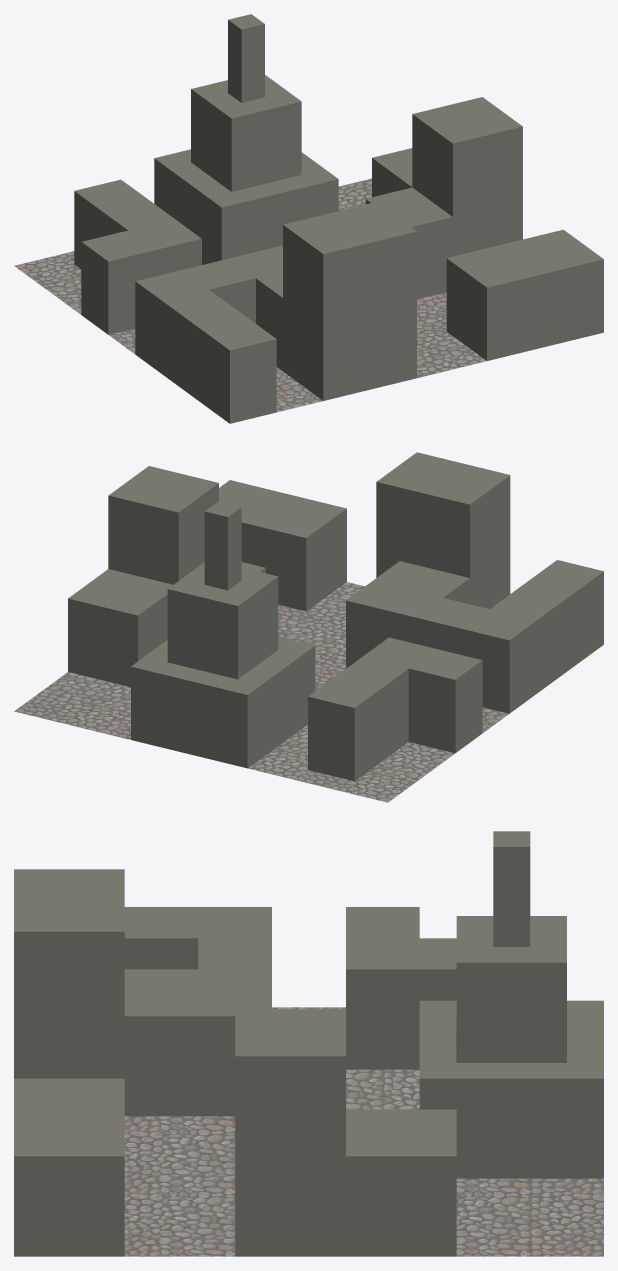
File: tile2.fbx
3 views of the same model, one above another, from view 1: azimuth 30°, elevation 25°; view 2: azimuth 150°, elevation 25°; view 3: azimuth 270°, elevation 25° (orthographic). The views are drawn at different scales.
Visible parts, largest first — view 1: Tile2; view 2: Tile2; view 3: Tile2.
Boxes of the visible parts, left/top/right/bottom form: Tile2: left=14, top=14, right=603, bottom=423; Tile2: left=14, top=452, right=603, bottom=802; Tile2: left=14, top=831, right=603, bottom=1256.
Bounding box in the file's own units: 1600 × 900 × 1600.
